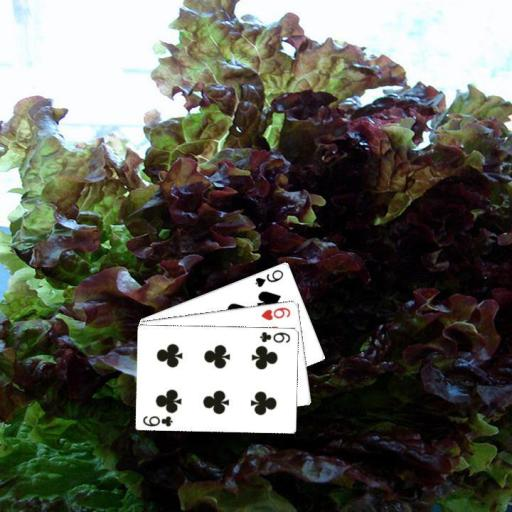6C: (258, 328, 292, 344), (140, 413, 174, 428)
6H: (258, 304, 292, 322)
9S: (252, 266, 285, 289)
